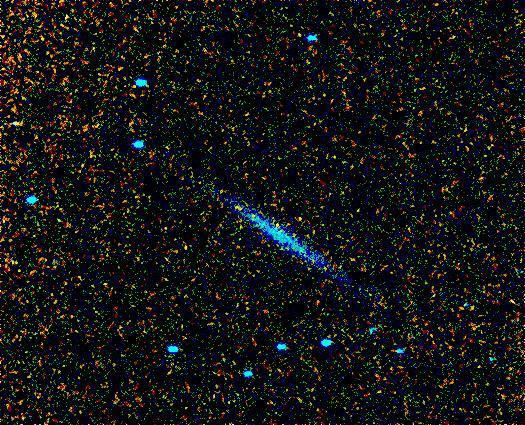star: (225, 193, 255, 223)
